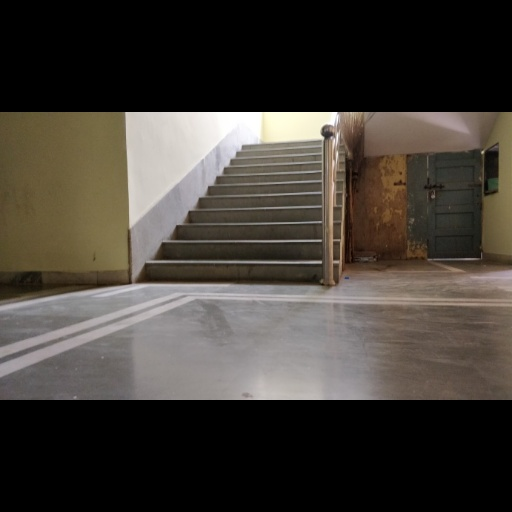Stairs: (145, 142, 322, 281)
